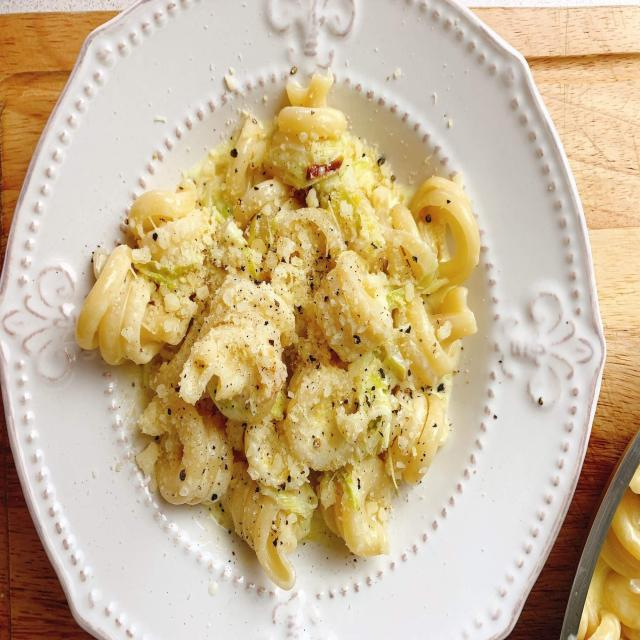pasta: (89, 86, 490, 582)
